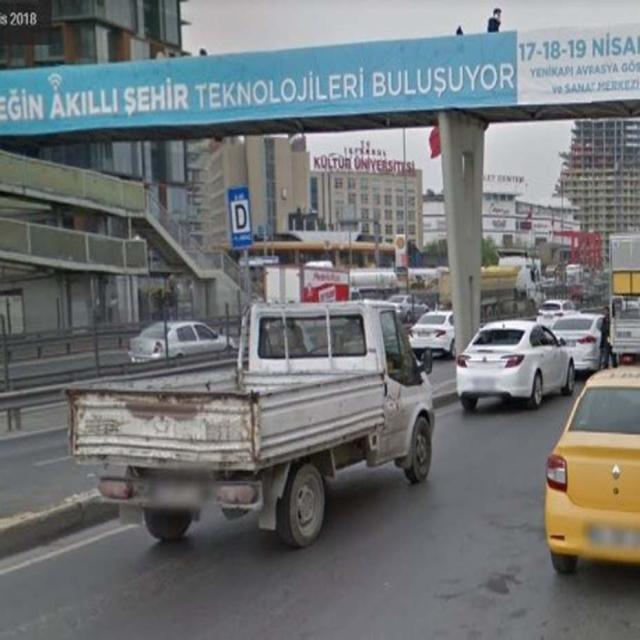durak: (227, 187, 256, 250)
